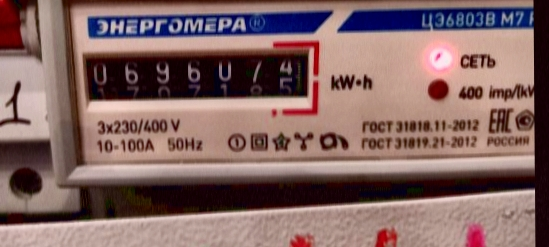0: (91, 60, 109, 85), (217, 56, 233, 82)
4: (279, 54, 293, 75)
5: (279, 76, 293, 95)
6: (122, 59, 140, 84), (186, 56, 202, 83)
7: (248, 57, 264, 83)
9: (154, 58, 171, 84)
screen: (77, 38, 323, 117)
